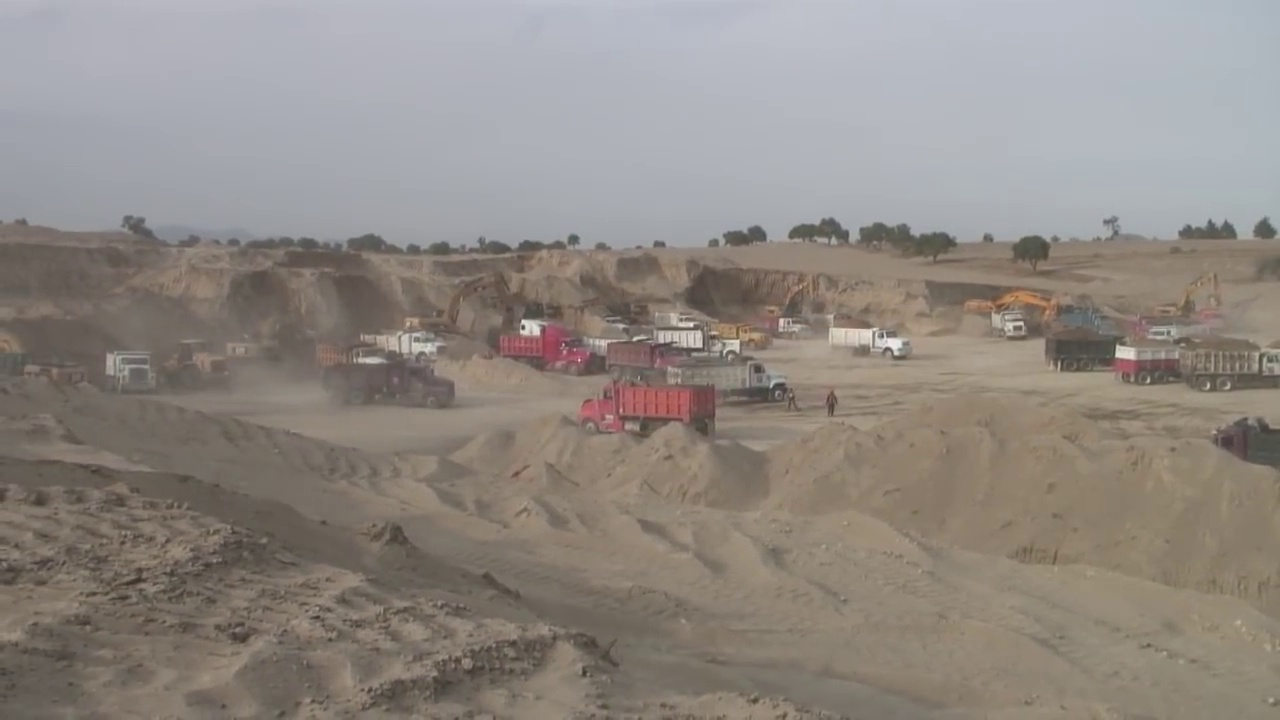excavator: (405, 274, 524, 341), (1158, 262, 1222, 318), (965, 291, 1054, 325)
person: (825, 386, 839, 410)
truck: (578, 378, 719, 439), (324, 357, 456, 404), (672, 364, 786, 404), (498, 328, 600, 372), (1191, 342, 1280, 392), (826, 318, 913, 362), (654, 323, 741, 362), (358, 323, 444, 361), (1048, 333, 1131, 371), (1112, 341, 1180, 385), (608, 339, 689, 374), (102, 345, 154, 396), (720, 317, 767, 347), (768, 314, 807, 340), (655, 310, 699, 331), (995, 311, 1024, 337)
